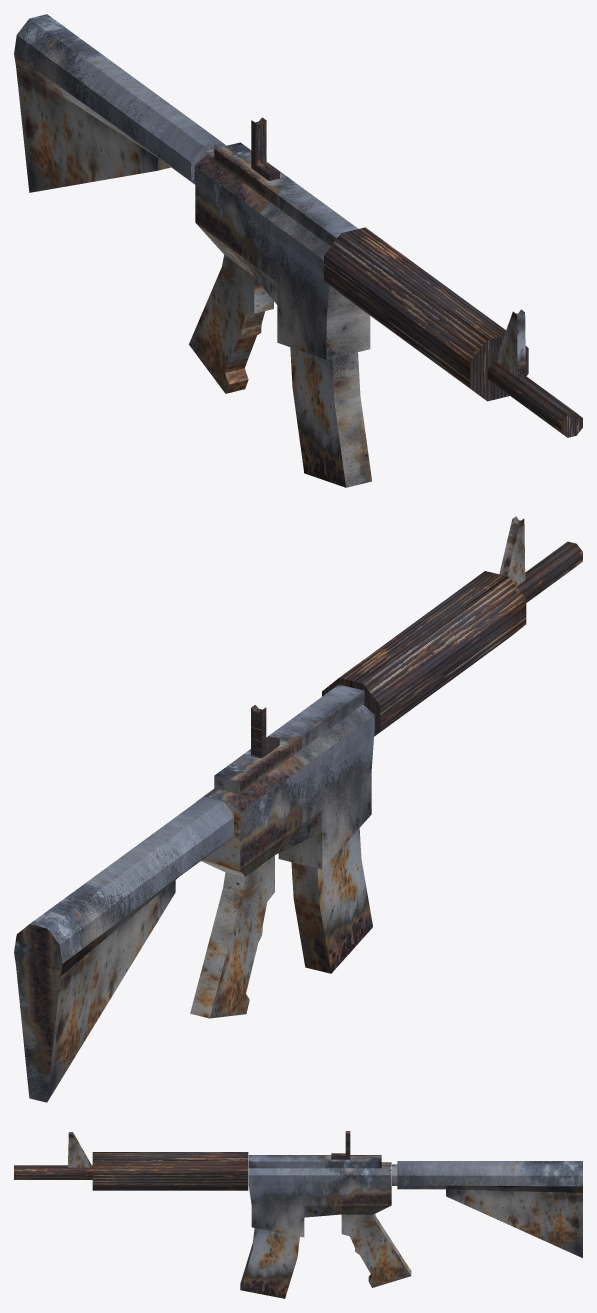
3 views of the same model, one above another, from view 1: azimuth 30°, elevation 25°; view 2: azimuth 150°, elevation 25°; view 3: azimuth 270°, elevation 25° (orthographic). The views are drawn at different scales.
Parts seen in each view (by area): view 1: AR; view 2: AR; view 3: AR.
Part boxes in pixels (x1,y1,x2,y2): AR: (14, 14, 582, 487); AR: (14, 516, 582, 1102); AR: (14, 1131, 582, 1298).
Bounding box in the file's own units: 6.07 × 30.43 × 96.16.
Materials: 2 (2 with a texture image).
